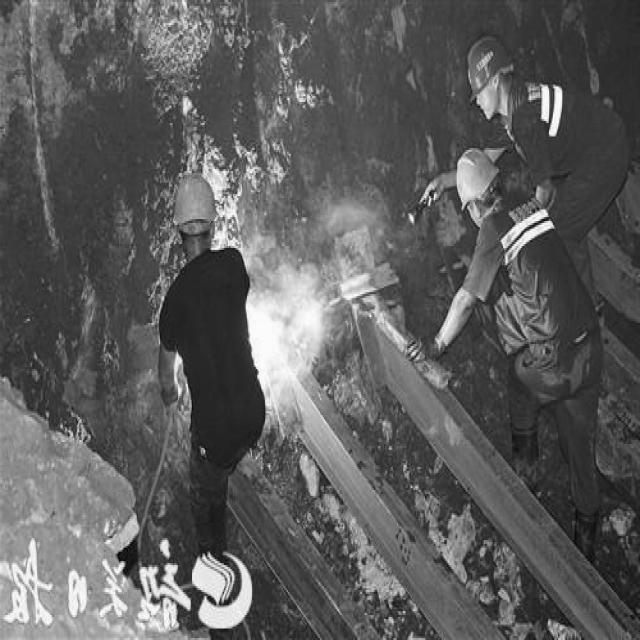hand_glove: (406, 328, 442, 367)
hand_noglove: (416, 171, 448, 210)
head_helmet: (463, 32, 517, 106), (169, 171, 221, 229), (454, 146, 501, 210)
person: (429, 154, 611, 580), (146, 171, 271, 640), (465, 36, 631, 332)
